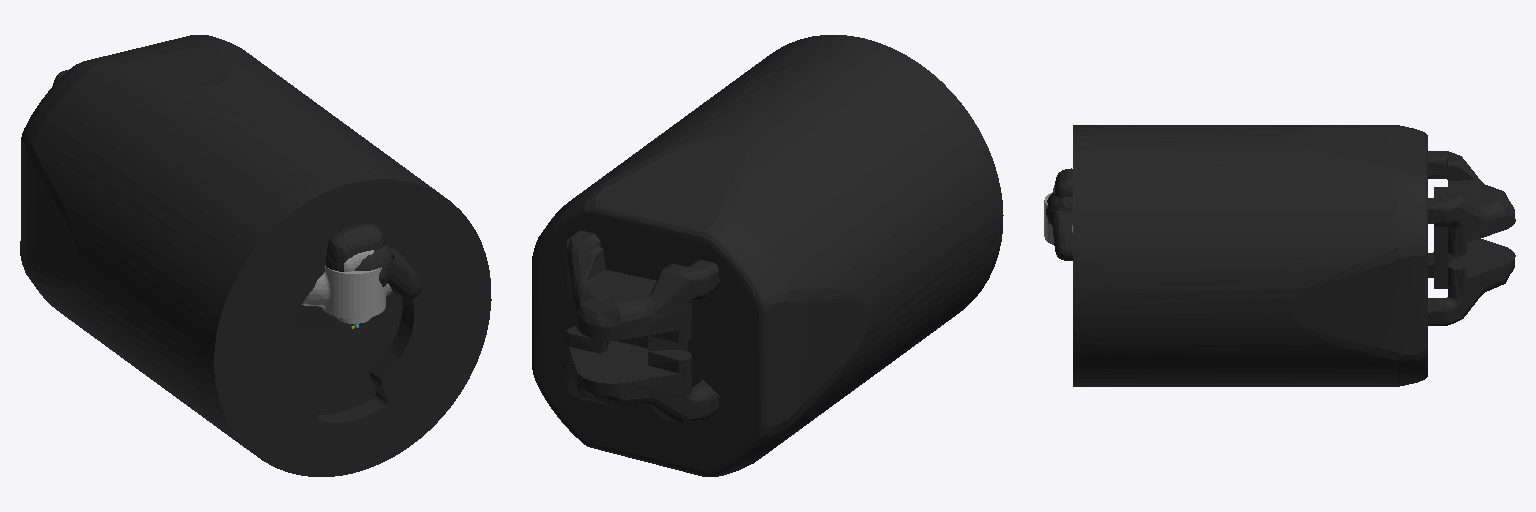
--- Render facts (derived) ---
Views: 3 orthographic renders of the robot side by side, from view 1: azimuth 30°, elevation 25°; view 2: azimuth 150°, elevation 25°; view 3: azimuth 270°, elevation 25°.
Model panda with 28 links and 27 joints (24 revolute, 3 prismatic), rooted at root, posed every joint at zero.
Visible links, largest first — view 1: forearm, wrist, thdistal, mfmiddle; view 2: forearm; view 3: forearm, thdistal.
Boxes of the visible links, box(x1,y1,x2,y2) form: forearm: box(20, 35, 491, 476); wrist: box(302, 266, 392, 323); thdistal: box(388, 248, 421, 298); mfmiddle: box(344, 224, 376, 254); forearm: box(532, 35, 1003, 476); forearm: box(1073, 125, 1515, 386); thdistal: box(1052, 209, 1072, 260).
Bounding box of the posed robot: 1.35 × 2.42 × 1.35 m (x, y, z).
Meshes: 10 distinct files referenced, 22 mesh visuals loaded (9 OBJ); not drawn: 1 (reference not matched to a file when rendering).

The robot description file, URDF, robot "panda":
<?xml version="1.0" ?>
<robot name="panda" xmlns:xacro="http://www.ros.org/wiki/xacro">
  <material name="Blue">
    <color rgba="0.0 0.0 0.8 1.0" />
  </material>
  <material name="Green">
    <color rgba="0.0 0.8 0.0 1.0" />
  </material>
  <material name="Grey">
    <color rgba="0.2 0.2 0.2 1.0" />
  </material>
  <material name="LightGrey">
    <color rgba="0.6 0.6 0.6 1.0" />
  </material>
  <material name="Red">
    <color rgba="0.8 0.0 0.0 1.0" />
  </material>
  <material name="White">
    <color rgba="1.0 1.0 1.0 1.0" />
  </material>
  <link name="root">
    <visual>
      <origin xyz="0 0 0.005"/>
      <geometry>
        <box size="0.01 0.01 0.01"/>
      </geometry>
    </visual>
  </link>
  <link name="basex">
    <visual>
      <origin xyz="0.02 0 0.005"/>
      <geometry>
        <box size="0.01 0.01 0.01"/>
      </geometry>
    </visual>
  </link>
  <link name="basey">
    <visual>
      <origin xyz="0.02 0.02 0.005"/>
      <geometry>
        <box size="0.01 0.01 0.01"/>
      </geometry>
    </visual>
  </link>
  <joint name="move_x" type="prismatic">
    <origin rpy="0 0 0" xyz="0.0 0 0.0"/>
    <parent link="root"/>
    <child link="basex"/>
    <axis xyz="1 0 0"/>
    <limit effort="100" lower="-0.5" upper="0.5" velocity="1.0"/>
  </joint>
  <joint name="move_y" type="prismatic">
    <origin rpy="0 0 0" xyz="0.0 0.0 0.0"/>
    <parent link="basex"/>
    <child link="basey"/>
    <axis xyz="0 1 0"/>
    <limit effort="50" lower="-0.5" upper="0.5" velocity="0.3"/>
  </joint>
  <joint name="move_z" type="prismatic">
    <origin rpy="0 0 0" xyz="0.0 0.0 0.0"/>
    <parent link="basey"/>
    <child link="forearm"/>
    <axis xyz="0 0 1"/>
    <limit effort="50" lower="0" upper="0.5" velocity="0.3"/>
  </joint>
  <link name="forearm">
    <inertial>
      <origin rpy="0 0 0" xyz="0 0 0.02" />
      <mass value="3.0" />
      <inertia ixx="1.0" ixy="0.0" ixz="0.0" iyy="1.0" iyz="0.0" izz="1.0" />
    </inertial>
    <visual>
      <origin rpy="0 0 0" xyz="0 0 0" />
      <geometry name="shadow_forearm_geom">
        <mesh filename="meshes/forearm.obj"/>
      </geometry>
      <material name="Grey" />
    </visual>
    <collision>
      <origin rpy="0 0 0" xyz="0 0 0.09" />
      <geometry name="shadow_forearm_collision">
        <cylinder length="0.180" radius="0.06" />
      </geometry>
    </collision>
  </link>
  <link name="wrist">
    <inertial>
      <origin rpy="0 0 0" xyz="0 0.0 0.0" />
      <mass value="0.1" />
      <inertia ixx="0.120" ixy="0.0" ixz="0.0" iyy="0.148" iyz="0.0" izz="0.0438" />
    </inertial>
    <visual>
      <origin rpy="0 0 0" xyz="0 0 0" />
      <geometry name="wrist_visual">
        <mesh filename="meshes/wrist.obj"/>
      </geometry>
      <material name="LightGrey" />
    </visual>
    <collision>
      <origin rpy="0 0 0" xyz="0 0 0" />
      <geometry name="wrist_collision_geom">
        <box size="0.02 0.02 0.02" />
      </geometry>
    </collision>
  </link>
  <joint name="WRJ2" type="revolute">
    <parent link="forearm" />
    <child link="wrist" />
    <origin rpy="0 0 0" xyz="0 -0.010 0.213" />
    <axis xyz="0 1 0" />
    <limit effort="5" lower="-0.52359877559829882" upper="0.17453292519943295" velocity="1.0" />
    <dynamics damping="100.5" />
  </joint>
  <link name="palm">
    <inertial>
      <origin rpy="0 0 0" xyz="0 0 0.035" />
      <mass value="0.3" />
      <inertia ixx="0.5" ixy="0.0" ixz="0.0" iyy="0.5" iyz="0.0" izz="0.3" />
    </inertial>
    <visual>
      <origin rpy="0 0 0" xyz="0 0 0" />
      <geometry name="palm_visual">
        <mesh filename="meshes/palm.obj"/>
      </geometry>
      <material name="Grey" />
    </visual>
    <collision>
      <origin rpy="0 0 0" xyz="0.005 0 0.035" />
      <geometry name="palm_collision_geom">
        <box size="0.05 0.02 0.07" />
      </geometry>
    </collision>
  </link>
  <joint name="WRJ1" type="revolute">
    <parent link="wrist" />
    <child link="palm" />
    <origin rpy="0 0 0" xyz="0 0 0.034" />
    <axis xyz="1 0 0" />
    <limit effort="5" lower="-0.78539816339744828" upper="0.6108652381980153" velocity="1.0" />
    <dynamics damping="100.5" />
  </joint>
  <link name="ffknuckle">
    <inertial>
      <origin rpy="0 0 0" xyz="0 0 0" />

      <mass value="0.008" />
      <inertia ixx="0.0" ixy="0.0" ixz="0.0" iyy="0.1" iyz="0.0" izz="0.0" />
    </inertial>
    <visual>
      <origin rpy="0 0 0" xyz="0 0 0.0005" />
      <geometry name="knuckle_visual">
        <mesh filename="meshes/knuckle.obj"/>
      </geometry>
      <material name="LightGrey" />
    </visual>
    <collision>
      <origin rpy="0 0 0" xyz="0 0 0" />
      <geometry name="knuckle_collision_geom">
        <box size="0.005 0.005 0.005" />
      </geometry>
    </collision>
  </link>
  <joint name="FFJ4" type="revolute">
    <parent link="palm" />
    <child link="ffknuckle" />
    <origin rpy="0 0 0" xyz="0.033 0 0.095" />
    <axis xyz="0 -1 0" />
    <limit effort="100" lower="-0.43633231299858238" upper="0.43633231299858238" velocity="1.0" />
    <dynamics damping="50.5" />
  </joint>
  <link name="ffproximal">
    <inertial>
      <mass value="0.014" />
      <origin xyz="0 0 0.0225" />
      <inertia ixx="0.1" ixy="0.0" ixz="0.0" iyy="0.1" iyz="0.0" izz="0.0" />
    </inertial>
    <visual>
      <origin rpy="0 0 0" xyz="0 0 0" />
      <geometry name="proximal_visual">
        <mesh filename="meshes/F3.obj"/>
      </geometry>
      <material name="Grey" />
    </visual>
    <collision>
      <origin rpy="0 0 0 " xyz="0 0 0.025" />
      <geometry name="proximal_collision_geom">
        <box size="0.008 0.008 0.04" />
      </geometry>
    </collision>
  </link>
  <joint name="FFJ3" type="revolute">
    <parent link="ffknuckle" />
    <child link="ffproximal" />
    <origin rpy="0 0 0" xyz="0 0 0" />
    <axis xyz="1 0 0" />
    <limit effort="100" lower="0" upper="1.57079632679" velocity="1.0" />
    <dynamics damping="50.5" />
  </joint>
  <link name="ffmiddle">
    <inertial>
      <origin rpy="0 0 0" xyz="0 0 0.0125" />
      <mass value="0.012" />
      <inertia ixx="0.1" ixy="0.0" ixz="0.0" iyy="0.1" iyz="0.0" izz="0.0" />
    </inertial>
    <visual>
      <origin rpy="0 0 0" xyz="0 0 0" />
      <geometry name="middle_visual">
        <mesh filename="meshes/F2.obj"/>
      </geometry>
      <material name="Grey" />
    </visual>
    <collision>
      <origin rpy="0 0 0" xyz="0 0 0.0125" />
      <geometry name="middle_collision_geom">
        <box size="0.008 0.008 0.015" />
      </geometry>
    </collision>
  </link>
  <joint name="FFJ2" type="revolute">
    <parent link="ffproximal" />
    <child link="ffmiddle" />
    <origin rpy="0 0 0" xyz="0 0 0.045" />
    <axis xyz="1 0 0" />
    <limit effort="100" lower="0" upper="1.57079632679" velocity="1.0" />
    <dynamics damping="50.5" />
  </joint>
  <link name="ffdistal">
    <inertial>
      <mass value="0.010" />
      <origin xyz="0 0 0.013" />
      <inertia ixx="0.1" ixy="0.0" ixz="0.0" iyy="0.1" iyz="0.0" izz="0.0" />
    </inertial>
    <visual>
      <origin rpy="0 0 0" xyz="0 0 0" />
      <geometry name="distal_visual">
        <mesh filename="meshes/F1.obj"/>
      </geometry>
      <material name="Grey" />
    </visual>

    <collision>
      <origin rpy="0 0 0" xyz="0 0 0" />
      <geometry name="distal_collision_geom">
        <mesh filename="meshes/F1.obj"/>
      </geometry>
    </collision>
  </link>
  <joint name="FFJ1" type="revolute">
    <parent link="ffmiddle" />
    <child link="ffdistal" />
    <origin rpy="0 0 0" xyz="0 0 0.025" />
    <axis xyz="1 0 0" />
    <limit effort="100" lower="0" upper="1.57079632679" velocity="1.0" />
    <dynamics damping="50.5" />
  </joint>
  <link name="mfknuckle">
    <inertial>
      <origin rpy="0 0 0" xyz="0 0 0" />

      <mass value="0.008" />
      <inertia ixx="0.0" ixy="0.0" ixz="0.0" iyy="0.1" iyz="0.0" izz="0.0" />
    </inertial>
    <visual>
      <origin rpy="0 0 0" xyz="0 0 0.0005" />
      <geometry name="knuckle_visual">
        <mesh filename="meshes/knuckle.obj"/>
      </geometry>
      <material name="LightGrey" />
    </visual>
    <collision>
      <origin rpy="0 0 0" xyz="0 0 0" />
      <geometry name="knuckle_collision_geom">
        <box size="0.005 0.005 0.005" />
      </geometry>
    </collision>
  </link>
  <joint name="MFJ4" type="revolute">
    <parent link="palm" />
    <child link="mfknuckle" />

    <origin rpy="0 0 0" xyz="0.011 0 0.099" />
    <axis xyz="0 -1 0" />
    <limit effort="100" lower="-0.43633231299858238" upper="0.43633231299858238" velocity="1.0" />
    <dynamics damping="50.5" />
  </joint>
  <link name="mfproximal">
    <inertial>
      <mass value="0.014" />
      <origin xyz="0 0 0.0225" />
      <inertia ixx="0.1" ixy="0.0" ixz="0.0" iyy="0.1" iyz="0.0" izz="0.0" />
    </inertial>
    <visual>
      <origin rpy="0 0 0" xyz="0 0 0" />
      <geometry name="proximal_visual">
        <mesh filename="meshes/F3.obj"/>
      </geometry>
      <material name="Grey" />
    </visual>
    <collision>
      <origin rpy="0 0 0 " xyz="0 0 0.025" />
      <geometry name="proximal_collision_geom">
        <box size="0.008 0.008 0.04" />
      </geometry>
    </collision>
  </link>
  <joint name="MFJ3" type="revolute">
    <parent link="mfknuckle" />
    <child link="mfproximal" />
    <origin rpy="0 0 0" xyz="0 0 0" />
    <axis xyz="1 0 0" />
    <limit effort="100" lower="0" upper="1.57079632679" velocity="1.0" />
    <dynamics damping="50.5" />
  </joint>
  <link name="mfmiddle">
    <inertial>
      <origin rpy="0 0 0" xyz="0 0 0.0125" />
      <mass value="0.012" />
      <inertia ixx="0.1" ixy="0.0" ixz="0.0" iyy="0.1" iyz="0.0" izz="0.0" />
    </inertial>
    <visual>
      <origin rpy="0 0 0" xyz="0 0 0" />
      <geometry name="middle_visual">
        <mesh filename="meshes/F2.obj"/>
      </geometry>
      <material name="Grey" />
    </visual>
    <collision>
      <origin rpy="0 0 0" xyz="0 0 0.0125" />
      <geometry name="middle_collision_geom">
        <box size="0.008 0.008 0.015" />
      </geometry>
    </collision>
  </link>
  <joint name="MFJ2" type="revolute">
    <parent link="mfproximal" />
    <child link="mfmiddle" />
    <origin rpy="0 0 0" xyz="0 0 0.045" />
    <axis xyz="1 0 0" />
    <limit effort="100" lower="0" upper="1.57079632679" velocity="1.0" />
    <dynamics damping="50.5" />
  </joint>
  <link name="mfdistal">
    <inertial>
      <mass value="0.010" />
      <origin xyz="0 0 0.013" />
      <inertia ixx="0.1" ixy="0.0" ixz="0.0" iyy="0.1" iyz="0.0" izz="0.0" />
    </inertial>
    <visual>
      <origin rpy="0 0 0" xyz="0 0 0" />
      <geometry name="distal_visual">
        <mesh filename="meshes/F1.obj"/>
      </geometry>
      <material name="Grey" />
    </visual>

    <collision>
      <origin rpy="0 0 0" xyz="0 0 0" />
      <geometry name="distal_collision_geom">
        <mesh filename="meshes/F1.obj"/>
      </geometry>
    </collision>
  </link>
  <joint name="MFJ1" type="revolute">
    <parent link="mfmiddle" />
    <child link="mfdistal" />
    <origin rpy="0 0 0" xyz="0 0 0.025" />
    <axis xyz="1 0 0" />
    <limit effort="100" lower="0" upper="1.57079632679" velocity="1.0" />
    <dynamics damping="50.5" />
  </joint>
  <link name="rfknuckle">
    <inertial>
      <origin rpy="0 0 0" xyz="0 0 0" />

      <mass value="0.008" />
      <inertia ixx="0.0" ixy="0.0" ixz="0.0" iyy="0.1" iyz="0.0" izz="0.0" />
    </inertial>
    <visual>
      <origin rpy="0 0 0" xyz="0 0 0.0005" />
      <geometry name="knuckle_visual">
        <mesh filename="meshes/knuckle.obj"/>
      </geometry>
      <material name="LightGrey" />
    </visual>
    <collision>
      <origin rpy="0 0 0" xyz="0 0 0" />
      <geometry name="knuckle_collision_geom">
        <box size="0.005 0.005 0.005" />
      </geometry>
    </collision>
  </link>
  <joint name="RFJ4" type="revolute">
    <parent link="palm" />
    <child link="rfknuckle" />

    <origin rpy="0 0 0" xyz="-0.011 0 0.095" />
    <axis xyz="0 1 0" />
    <limit effort="100" lower="-0.43633231299858238" upper="0.43633231299858238" velocity="1.0" />
    <dynamics damping="50.5" />
  </joint>
  <link name="rfproximal">
    <inertial>
      <mass value="0.014" />
      <origin xyz="0 0 0.0225" />
      <inertia ixx="0.1" ixy="0.0" ixz="0.0" iyy="0.1" iyz="0.0" izz="0.0" />
    </inertial>
    <visual>
      <origin rpy="0 0 0" xyz="0 0 0" />
      <geometry name="proximal_visual">
        <mesh filename="meshes/F3.obj"/>
      </geometry>
      <material name="Grey" />
    </visual>
    <collision>
      <origin rpy="0 0 0 " xyz="0 0 0.025" />
      <geometry name="proximal_collision_geom">
        <box size="0.008 0.008 0.04" />
      </geometry>
    </collision>
  </link>
  <joint name="RFJ3" type="revolute">
    <parent link="rfknuckle" />
    <child link="rfproximal" />
    <origin rpy="0 0 0" xyz="0 0 0" />
    <axis xyz="1 0 0" />
    <limit effort="100" lower="0" upper="1.57079632679" velocity="1.0" />
    <dynamics damping="50.5" />
  </joint>
  <link name="rfmiddle">
    <inertial>
      <origin rpy="0 0 0" xyz="0 0 0.0125" />
      <mass value="0.012" />
      <inertia ixx="0.1" ixy="0.0" ixz="0.0" iyy="0.1" iyz="0.0" izz="0.0" />
    </inertial>
    <visual>
      <origin rpy="0 0 0" xyz="0 0 0" />
      <geometry name="middle_visual">
        <mesh filename="meshes/F2.obj"/>
      </geometry>
      <material name="Grey" />
    </visual>
    <collision>
      <origin rpy="0 0 0" xyz="0 0 0.0125" />
      <geometry name="middle_collision_geom">
        <box size="0.008 0.008 0.015" />
      </geometry>
    </collision>
  </link>
  <joint name="RFJ2" type="revolute">
    <parent link="rfproximal" />
    <child link="rfmiddle" />
    <origin rpy="0 0 0" xyz="0 0 0.045" />
    <axis xyz="1 0 0" />
    <limit effort="100" lower="0" upper="1.57079632679" velocity="1.0" />
    <dynamics damping="50.5" />
  </joint>
  <link name="rfdistal">
    <inertial>
      <mass value="0.010" />
      <origin xyz="0 0 0.013" />
      <inertia ixx="0.1" ixy="0.0" ixz="0.0" iyy="0.1" iyz="0.0" izz="0.0" />
    </inertial>
    <visual>
      <origin rpy="0 0 0" xyz="0 0 0" />
      <geometry name="distal_visual">
        <mesh filename="meshes/F1.obj"/>
      </geometry>
      <material name="Grey" />
    </visual>

    <collision>
      <origin rpy="0 0 0" xyz="0 0 0" />
      <geometry name="distal_collision_geom">
        <mesh filename="meshes/F1.obj"/>
      </geometry>
    </collision>
  </link>
  <joint name="RFJ1" type="revolute">
    <parent link="rfmiddle" />
    <child link="rfdistal" />
    <origin rpy="0 0 0" xyz="0 0 0.025" />
    <axis xyz="1 0 0" />
    <limit effort="100" lower="0" upper="1.57079632679" velocity="1.0" />
    <dynamics damping="50.5" />
  </joint>
  <link name="lfmetacarpal">
    <inertial>
      <origin rpy="0 0 0" xyz="0 0 0.04" />
      <mass value="0.075" />
      <inertia ixx="0.1" ixy="0.0" ixz="0.0" iyy="0.1" iyz="0.0" izz="0.1" />
    </inertial>
    <visual>
      <origin rpy="0 0 0" xyz="0 0 0" />
      <geometry name="lfmetacarpal_visual">
        <mesh filename="meshes/lfmetacarpal.obj"/>
      </geometry>
      <material name="Grey" />
    </visual>
    <collision>
      <origin rpy="0 0 0" xyz="0 0 0.04" />
      <geometry name="lfmetacarpal_collision_geom">
        <box size="0.008 0.008 0.03" />
      </geometry>
    </collision>
  </link>
  <joint name="LFJ5" type="revolute">
    <parent link="palm" />
    <child link="lfmetacarpal" />
    <origin rpy="0 0 0" xyz="-0.033 0 0.02071" />
    <axis xyz="0.573576436 0 0.819152044" />
    <limit effort="100" lower="0" upper="0.69813170079773179" velocity="1.0" />
    <dynamics damping="50.5" />
  </joint>
  <link name="lfknuckle">
    <inertial>
      <origin rpy="0 0 0" xyz="0 0 0.06579" />
      <mass value="0.008" />
      <inertia ixx="0.1" ixy="0.0" ixz="0.0" iyy="0.1" iyz="0.0" izz="0.1" />
    </inertial>
    <visual>
      <origin rpy="0 0 0" xyz="0 0 0" />
      <geometry name="knuckle_visual">
        <mesh filename="meshes/knuckle.obj"/>
      </geometry>
      <material name="LightGrey" />
    </visual>
    <collision>
      <origin rpy="0 0 0" xyz="0 0 0" />
      <geometry name="knuckle_collision_geom">
        <box size="0.005 0.005 0.005" />
      </geometry>
    </collision>
  </link>
  <joint name="LFJ4" type="revolute">
    <parent link="lfmetacarpal" />
    <child link="lfknuckle" />
    <origin rpy="0 0 0" xyz="0 0 0.06579" />
    <axis xyz="0 1 0" />
    <limit effort="100" lower="-0.43633231299858238" upper="0.43633231299858238" velocity="1.0" />
    <dynamics damping="50.5" />
  </joint>
  <link name="lfproximal">
    <inertial>
      <mass value="0.014" />
      <origin xyz="0 0 0.0225" />
      <inertia ixx="0.1" ixy="0.0" ixz="0.0" iyy="0.1" iyz="0.0" izz="0.0" />
    </inertial>
    <visual>
      <origin rpy="0 0 0" xyz="0 0 0" />
      <geometry name="proximal_visual">
        <mesh filename="meshes/F3.obj"/>
      </geometry>
      <material name="Grey" />
    </visual>
    <collision>
      <origin rpy="0 0 0 " xyz="0 0 0.025" />
      <geometry name="proximal_collision_geom">
        <box size="0.008 0.008 0.04" />
      </geometry>
    </collision>
  </link>
  <joint name="LFJ3" type="revolute">
    <parent link="lfknuckle" />
    <child link="lfproximal" />
    <origin rpy="0 0 0" xyz="0 0 0" />
    <axis xyz="1 0 0" />
    <limit effort="100" lower="0" upper="1.57079632679" velocity="1.0" />
    <dynamics damping="50.5" />
  </joint>
  <link name="lfmiddle">
    <inertial>
      <origin rpy="0 0 0" xyz="0 0 0.0125" />
      <mass value="0.012" />
      <inertia ixx="0.1" ixy="0.0" ixz="0.0" iyy="0.1" iyz="0.0" izz="0.0" />
    </inertial>
    <visual>
      <origin rpy="0 0 0" xyz="0 0 0" />
      <geometry name="middle_visual">
        <mesh filename="meshes/F2.obj"/>
      </geometry>
      <material name="Grey" />
    </visual>
    <collision>
      <origin rpy="0 0 0" xyz="0 0 0.0125" />
      <geometry name="middle_collision_geom">
        <box size="0.008 0.008 0.015" />
      </geometry>
    </collision>
  </link>
  <joint name="LFJ2" type="revolute">
    <parent link="lfproximal" />
    <child link="lfmiddle" />
    <origin rpy="0 0 0" xyz="0 0 0.045" />
    <axis xyz="1 0 0" />
    <limit effort="100" lower="0" upper="1.57079632679" velocity="1.0" />
    <dynamics damping="50.5" />
  </joint>
  <link name="lfdistal">
    <inertial>
      <mass value="0.010" />
      <origin xyz="0 0 0.013" />
      <inertia ixx="0.1" ixy="0.0" ixz="0.0" iyy="0.1" iyz="0.0" izz="0.0" />
    </inertial>
    <visual>
      <origin rpy="0 0 0" xyz="0 0 0" />
      <geometry name="distal_visual">
        <mesh filename="meshes/F1.obj"/>
      </geometry>
      <material name="Grey" />
    </visual>

    <collision>
      <origin rpy="0 0 0" xyz="0 0 0" />
      <geometry name="distal_collision_geom">
        <mesh filename="meshes/F1.obj"/>
      </geometry>
    </collision>
  </link>
  <joint name="LFJ1" type="revolute">
    <parent link="lfmiddle" />
    <child link="lfdistal" />
    <origin rpy="0 0 0" xyz="0 0 0.025" />
    <axis xyz="1 0 0" />
    <limit effort="100" lower="0" upper="1.57079632679" velocity="1.0" />
    <dynamics damping="50.5" />
  </joint>
  <link name="thbase">
    <inertial>
      <mass value="0.010" />
      <origin rpy="0 0 0" xyz="0 0 0" />
      <inertia ixx="0.0" ixy="0.0" ixz="0.0" iyy="0.0" iyz="0.0" izz="0.1" />
    </inertial>
    <visual>
      <origin rpy="0 0 0" xyz="0 0 0" />
      <geometry name="thbase_visual">
        <box size="0.001 0.001 0.001" />
      </geometry>
      <material name="shadow_thbase_material">
        <color rgba="0.5 0.5 0.5 1.0" />
      </material>
    </visual>
    <collision>
      <origin rpy="0 0 0 " xyz="0 0 0" />
      <geometry name="thbase_collision_geom">
        <box size="0.001 0.001 0.001" />
      </geometry>
    </collision>
  </link>
  <joint name="THJ5" type="revolute">
    <parent link="palm" />
    <child link="thbase" />
    <origin rpy="0 0.785398163397 0" xyz="0.034 -0.0085 0.029" />
    <axis xyz="0 0 -1.0" />
    <limit effort="100" lower="-1.047" upper="1.047" velocity="1.0" />
    <dynamics damping="50.5" />
  </joint>
  <link name="thproximal">
    <inertial>
      <mass value="0.016" />
      <origin rpy="0 0 0" xyz="0 0 0.019" />
      <inertia ixx="0.1" ixy="0.0" ixz="0.0" iyy="0.1" iyz="0.0" izz="0.1" />
    </inertial>
    <visual>
      <origin rpy="0 0 0" xyz="0 0 0" />
      <geometry name="thproximal_visual">
        <mesh filename="meshes/TH3_z.obj"/>
      </geometry>
      <material name="shadow_thproximal_material">
        <color rgba="0.2 0.2 0.2 1.0" />
      </material>
    </visual>
    <collision>
      <origin rpy="0 0 0" xyz="0 0 0.019" />
      <geometry name="thproximal_collision_geom">
        <box size="0.008 0.008 0.020" />
      </geometry>
    </collision>
  </link>
  <joint name="THJ4" type="revolute">
    <parent link="thbase" />
    <child link="thproximal" />
    <origin rpy="0 0 0" xyz="0 0 0" />
    <axis xyz="1.0 0 0" />
    <limit effort="100" lower="0" upper="1.309" velocity="1.0" />
    <dynamics damping="50.5" />
  </joint>
  <link name="thhub">
    <inertial>
      <mass value="0.002" />
      <origin rpy="0 0 0" xyz="0 0 0" />
      <inertia ixx="0.1" ixy="0.0" ixz="0.0" iyy="0.1" iyz="0.0" izz="0.1" />
    </inertial>
    <visual>
      <origin rpy="0 0 0" xyz="0 0 0" />
      <geometry name="thhub_visual">
        <box size="0.001 0.001 0.001" />
      </geometry>
      <material name="shadow_thhub_material">
        <color rgba="0.7 0.7 0.7 1.0" />
      </material>
    </visual>
    <collision>
      <origin rpy="0 0 0 " xyz="0 0 0" />
      <geometry name="thhub_collision_geom">
        <box size="0.001 0.001 0.001" />
      </geometry>
    </collision>
  </link>
  <joint name="THJ3" type="revolute">
    <parent link="thproximal" />
    <child link="thhub" />
    <origin rpy="0 0 0" xyz="0 0 0.038" />
    <axis xyz="1 0 0" />
    <limit effort="100" lower="-0.2618" upper="0.2618" velocity="1.0" />
    <dynamics damping="50.5" />
  </joint>
  <link name="thmiddle">
    <inertial>
      <mass value="0.016" />
      <origin rpy="0 0 0" xyz="0 0 0.016" />
      <inertia ixx="0.1" ixy="0.0" ixz="0.0" iyy="0.1" iyz="0.0" izz="0.1" />
    </inertial>
    <visual>
      <origin rpy="0 0 0" xyz="0 0 0" />
      <geometry name="thmiddle_visual">
        <mesh filename="meshes/TH2_z.obj"/>
      </geometry>
      <material name="shadow_thmiddle_material">
        <color rgba="0.2 0.2 0.2 1.0" />
      </material>
    </visual>
    <collision>
      <origin rpy="0 0 0 " xyz="0 0 0.016" />
      <geometry name="thmiddle_collision_geom">
        <box size="0.008 0.008 0.015" />
      </geometry>
    </collision>
  </link>
  <joint name="THJ2" type="revolute">
    <parent link="thhub" />
    <child link="thmiddle" />
    <origin rpy="0 0 0" xyz="0 0 0" />
    <axis xyz="0 -1 0" />
    <limit effort="100" lower="-0.5237" upper="0.5237" velocity="1.0" />
    <dynamics damping="50.5" />
  </joint>
  <link name="thdistal">
    <inertial>
      <mass value="0.016" />
      <origin rpy="0 0 0" xyz="0 0 0.01375" />
      <inertia ixx="0.1" ixy="0.0" ixz="0.0" iyy="0.1" iyz="0.0" izz="0.1" />
    </inertial>
    <visual>
      <origin rpy="0 0 0" xyz="0 0.002 0.0025" />
      <geometry name="thdistal_visual">
        <mesh filename="meshes/F1.obj"/>
      </geometry>
      <material name="shadow_thmiddle_material">
        <color rgba="0.2 0.2 0.2 1.0" />
      </material>
    </visual>
    <collision>
      <origin rpy="0 0 0 " xyz="0 0.002 0.0025" />
      <geometry name="thmiddle_collision_geom">
        <mesh filename="meshes/F1.obj"/>
      </geometry>
    </collision>
  </link>
  <joint name="THJ1" type="revolute">
    <parent link="thmiddle" />
    <child link="thdistal" />
    <origin rpy="0 0 -1.570796327" xyz="0 0 0.032" />
    <axis xyz="1 0 0" />
    <limit effort="100" lower="0" upper="1.571" velocity="1.0" />
    <dynamics damping="50.5" />
  </joint>
</robot>
